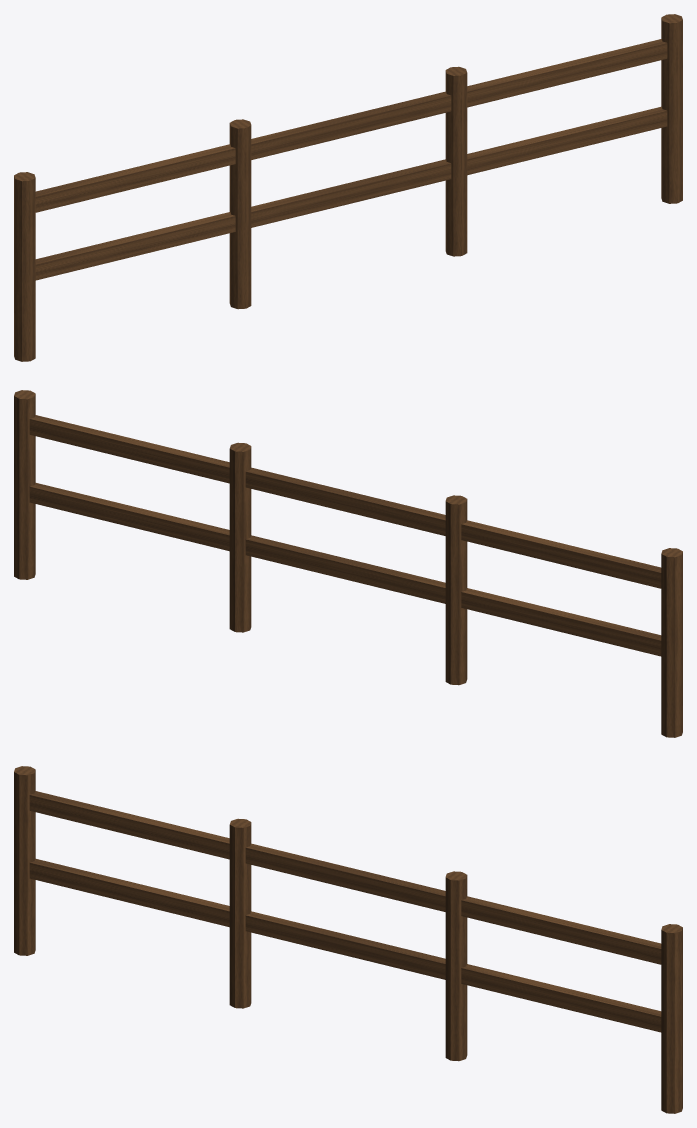
The model's file is fence.fbx.
3 views of the same model, one above another, from view 1: azimuth 30°, elevation 25°; view 2: azimuth 150°, elevation 25°; view 3: azimuth 330°, elevation 25° (orthographic).
Parts seen in each view (by area): view 1: rail0, rail1, post3, post1, post2, post0; view 2: rail0, rail1, post3, post1, post2, post0; view 3: rail0, rail1, post0, post2, post1, post3.
Boxes of the visible parts, x1,y1,x2,y2 form: rail0: (35,39,667,212); rail1: (35,106,667,280); post3: (14,172,35,361); post1: (445,66,467,256); post2: (229,119,251,309); post0: (661,14,682,203); rail0: (29,415,661,588); rail1: (29,482,661,656); post3: (661,548,682,737); post1: (229,442,251,632); post2: (445,495,467,685); post0: (14,390,35,579); rail0: (29,791,661,964); rail1: (29,858,661,1032); post0: (661,924,682,1113); post2: (229,818,251,1008); post1: (445,871,467,1061); post3: (14,766,35,955).
Size of the model in its own units: 618 by 160 by 18.
